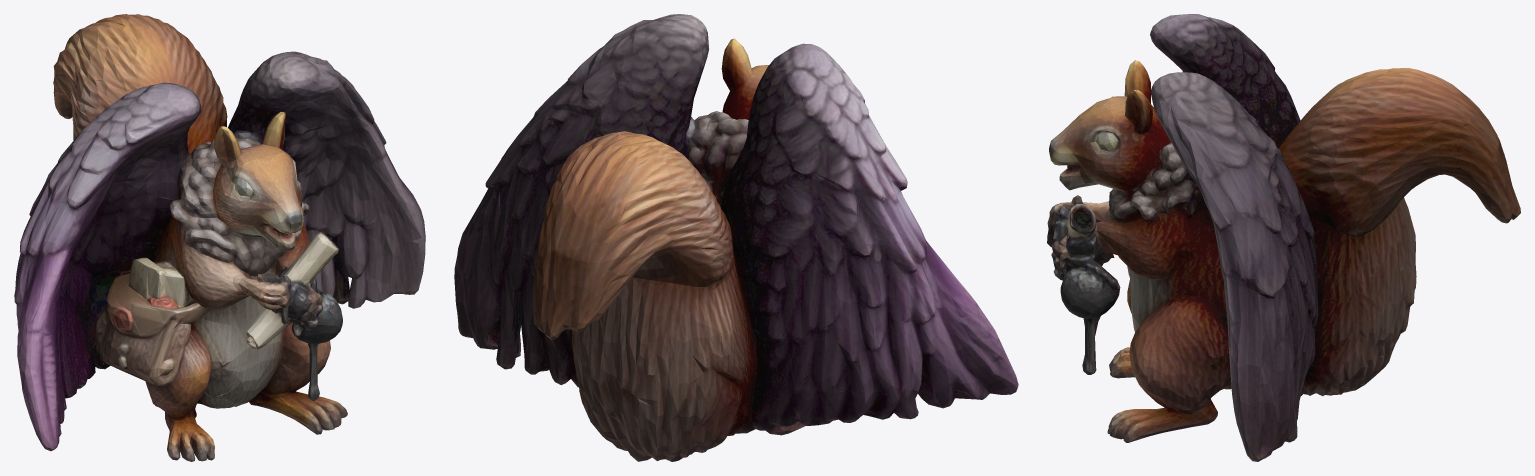
The model's file is quillshade__whisperscribe.glb.
The picture shows the model from 3 angles, left to right: view 1: azimuth 30°, elevation 25°; view 2: azimuth 150°, elevation 25°; view 3: azimuth 270°, elevation 25°; orthographic projection. The views are drawn at different scales.
Visible parts, largest first — view 1: world; view 2: world; view 3: world.
Part boxes in pixels (x1,y1,x2,y2): world: (14,14,425,461); world: (454,14,1018,461); world: (1047,14,1520,461).
Bounding box in the file's own units: 0.9985 × 0.7478 × 0.8962.
Materials: 1 (1 with a texture image).
